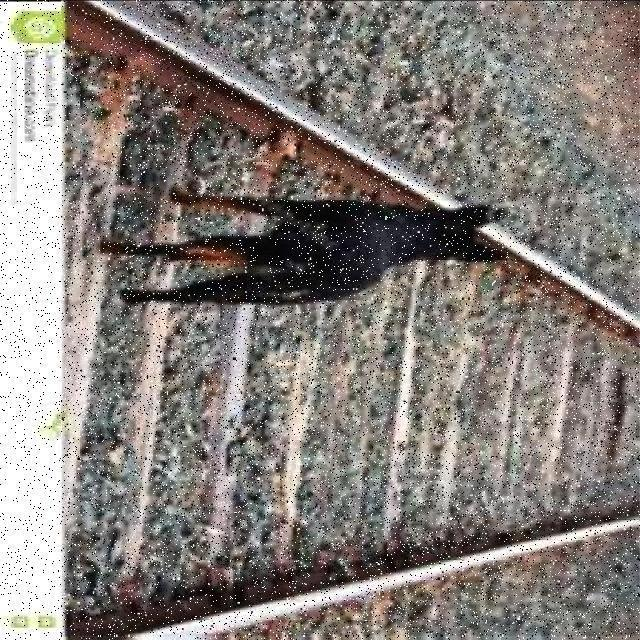rail: (62, 1, 640, 637)
